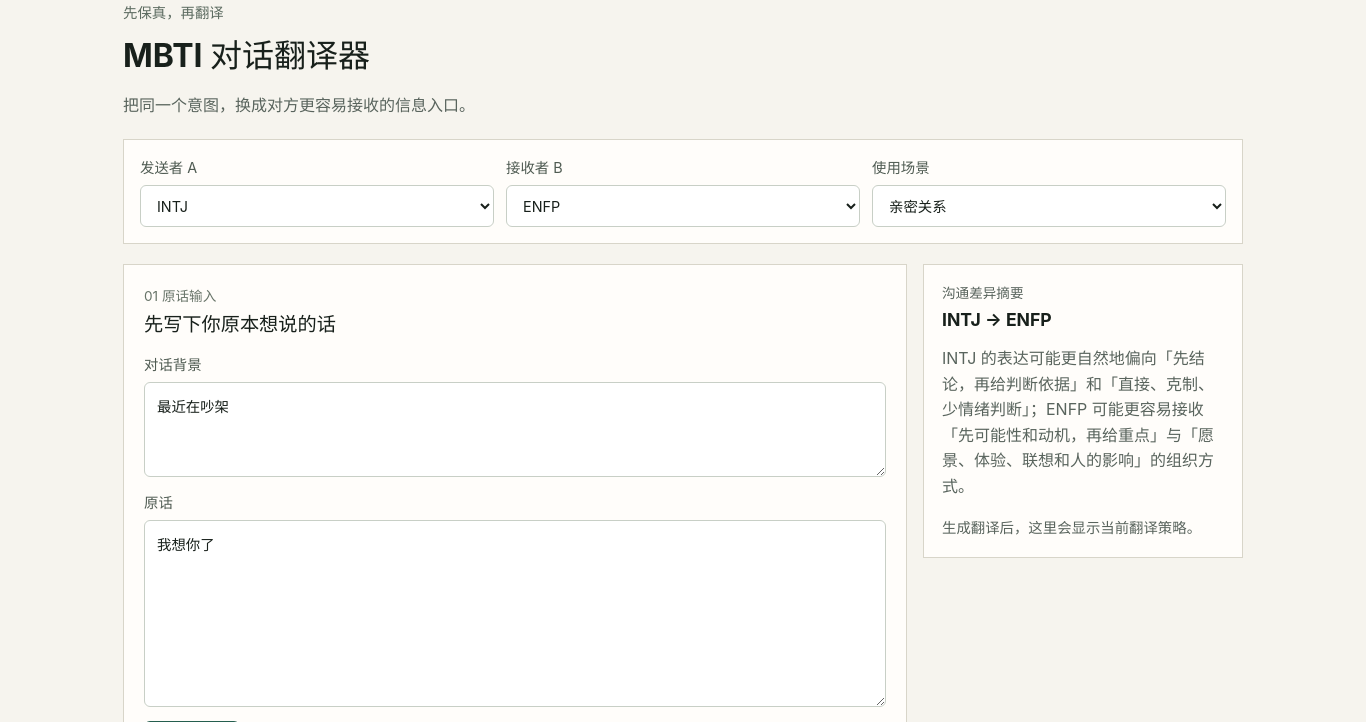
Test: does not show clarifying questions after intent analysis
Replace the text in the text box labelled "原话" with "这个方案风险太高了。". click: [515, 614]
box: [144, 520, 886, 707]
(page scrolled)
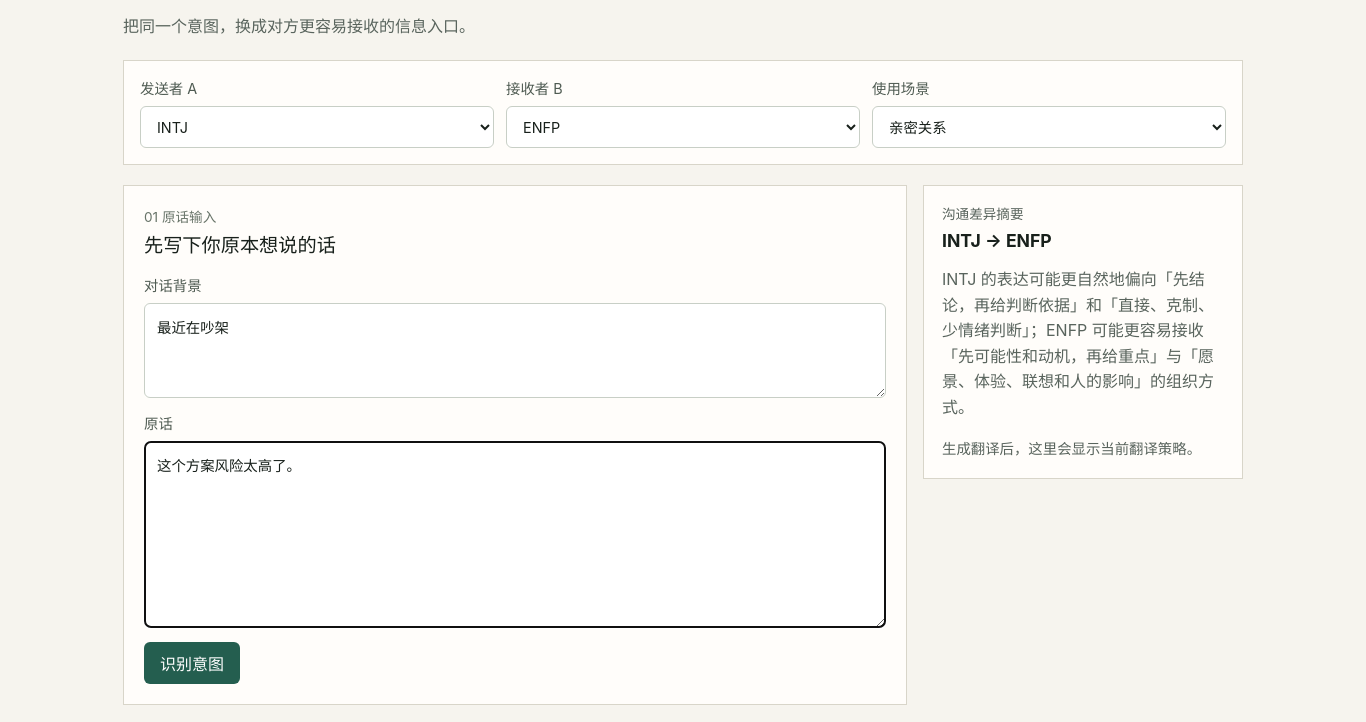
Click the button "识别意图". click: [192, 663]
box: [144, 642, 240, 684]
(page scrolled)
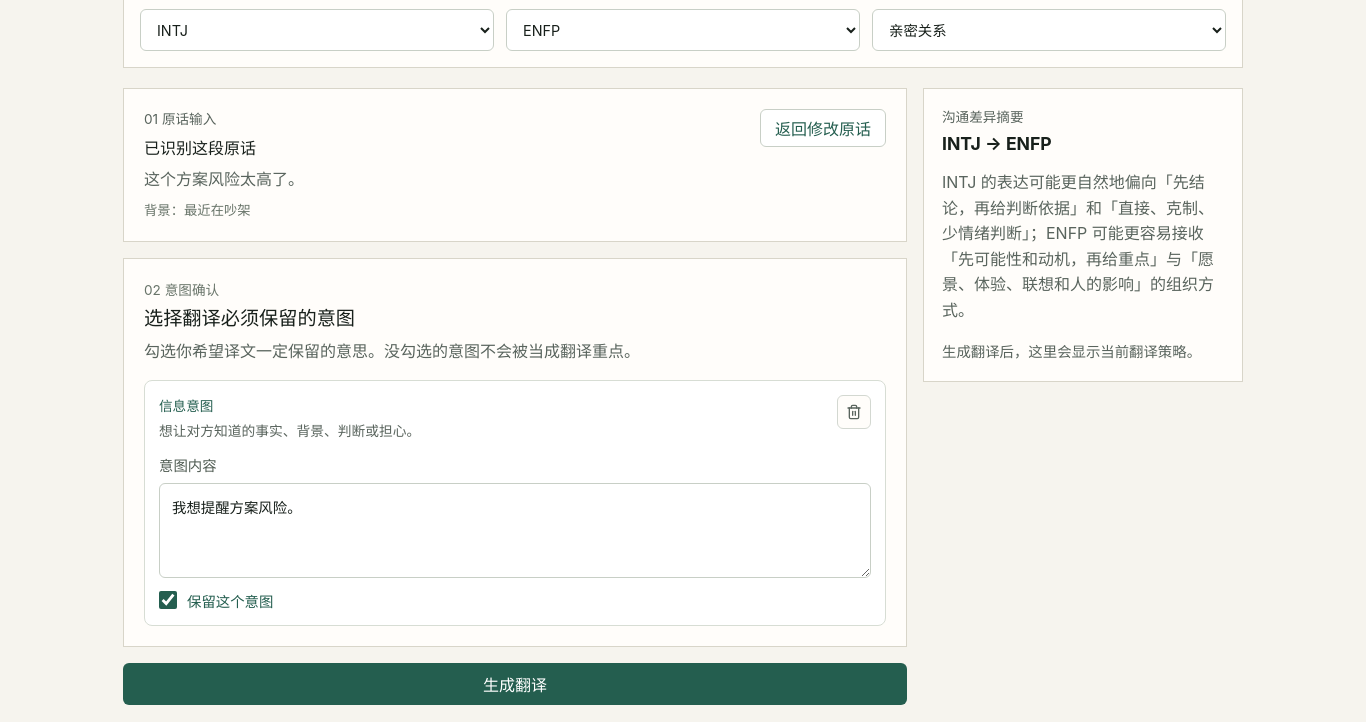
Check: the button "生成翻译" is enabled, box [123, 663, 907, 705]
Check: the text box "我想提醒方案风险。" is shown, box [159, 483, 871, 578]
